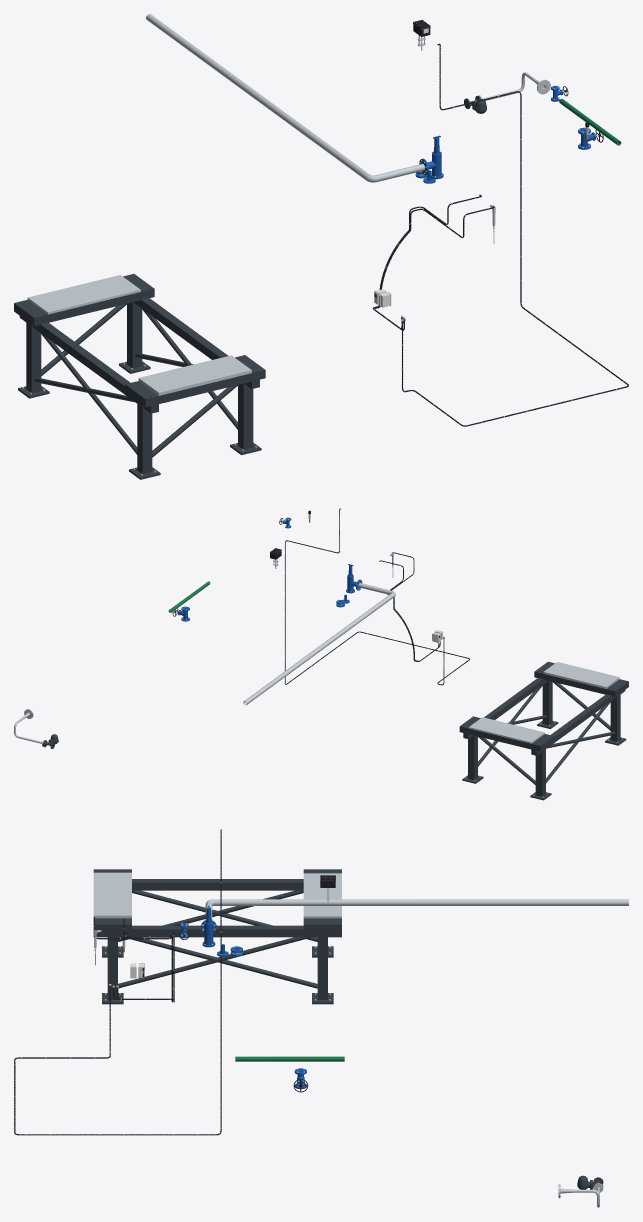
3 renders of one model, top to bottom at view 1: azimuth 30°, elevation 25°; view 2: azimuth 150°, elevation 25°; view 3: azimuth 270°, elevation 25°, orthographic. The views are drawn at different scales.
Parts seen in each view (by area): view 1: deaerator_support / dark, deaerator_support / steel, safety_vent_1 / steel, gpz_drive_cable / black; view 2: deaerator_support / dark, deaerator_support / steel, safety_vent_1 / steel, gpz_drive_cable / black; view 3: deaerator_support / dark, deaerator_support / steel, safety_vent_1 / steel, gpz_drive_cable / black, pump_delivery / green.
Part boxes in pixels (x1,y1,x2,y2): deaerator_support / dark: (14,274,265,479); deaerator_support / steel: (22,275,256,475); safety_vent_1 / steel: (146,14,424,182); gpz_drive_cable / black: (402,43,628,426); deaerator_support / dark: (459,661,628,800); deaerator_support / steel: (465,662,622,797); safety_vent_1 / steel: (243,583,395,705); gpz_drive_cable / black: (285,508,469,685); deaerator_support / dark: (93,869,341,1004); deaerator_support / steel: (93,872,341,1000); safety_vent_1 / steel: (205,899,628,919); gpz_drive_cable / black: (14,829,221,1135); pump_delivery / green: (235,1056,344,1061).
Bounding box in the file's own units: 8.14 × 3.6 × 7.03.
